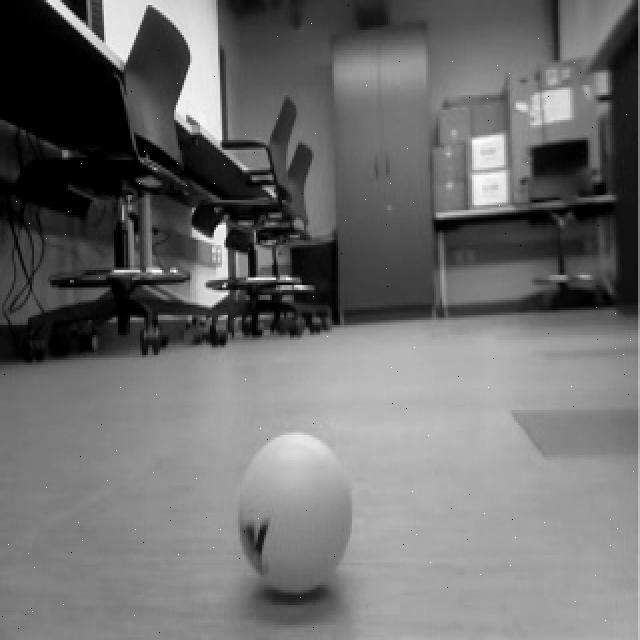ping-pong-ball: (234, 426, 356, 599)
